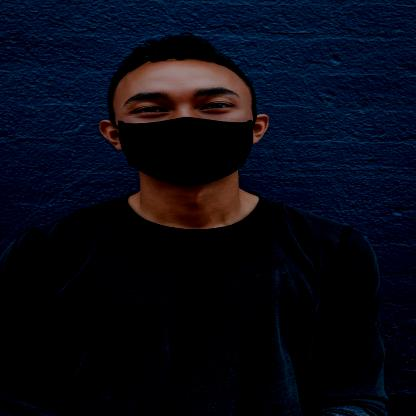dress: (0, 193, 387, 416), (112, 112, 261, 185)
